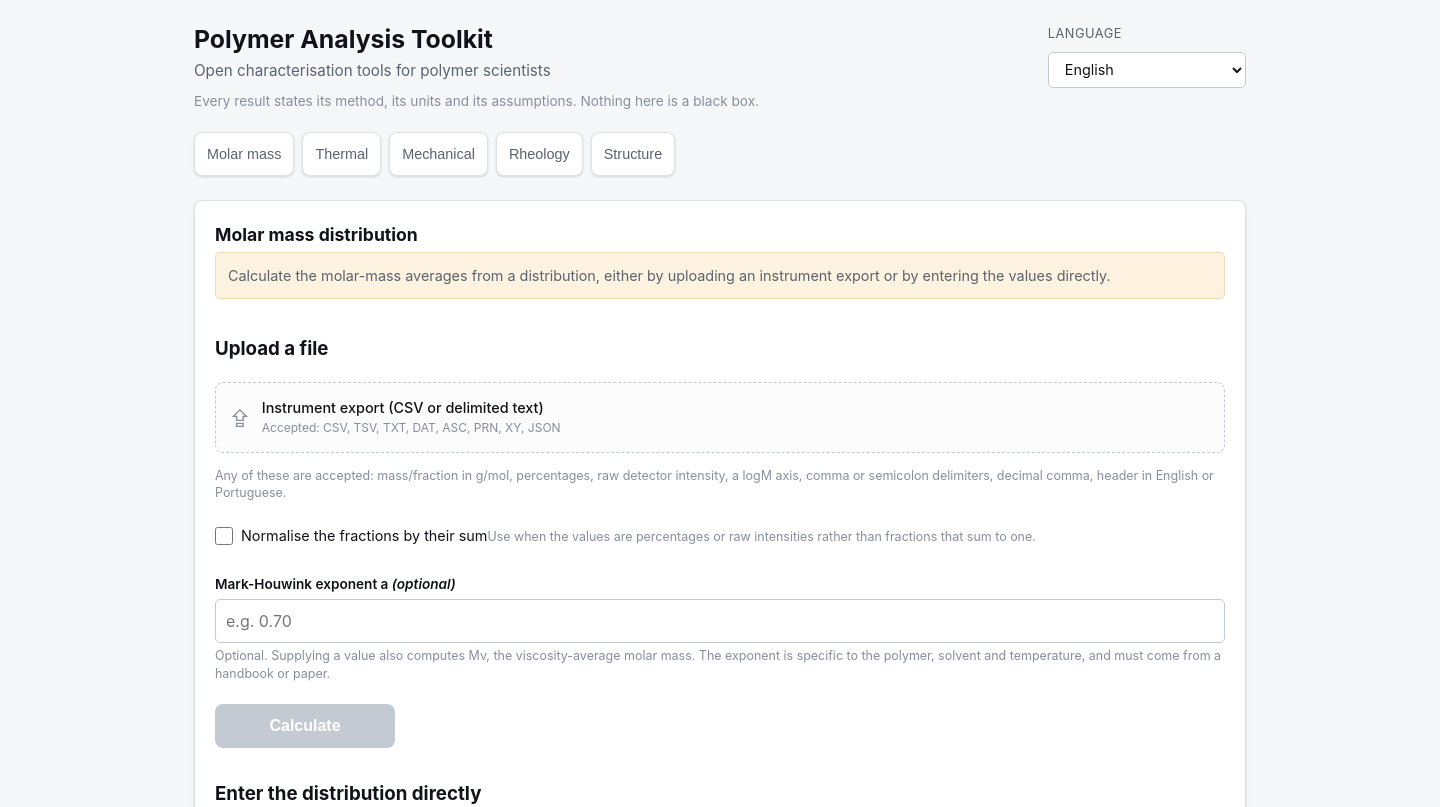
Scenario: thermal mode clarity › each mode states what it returns, so the choice is informed
Click the button "Thermal": click(342, 154) [302,132,381,176]
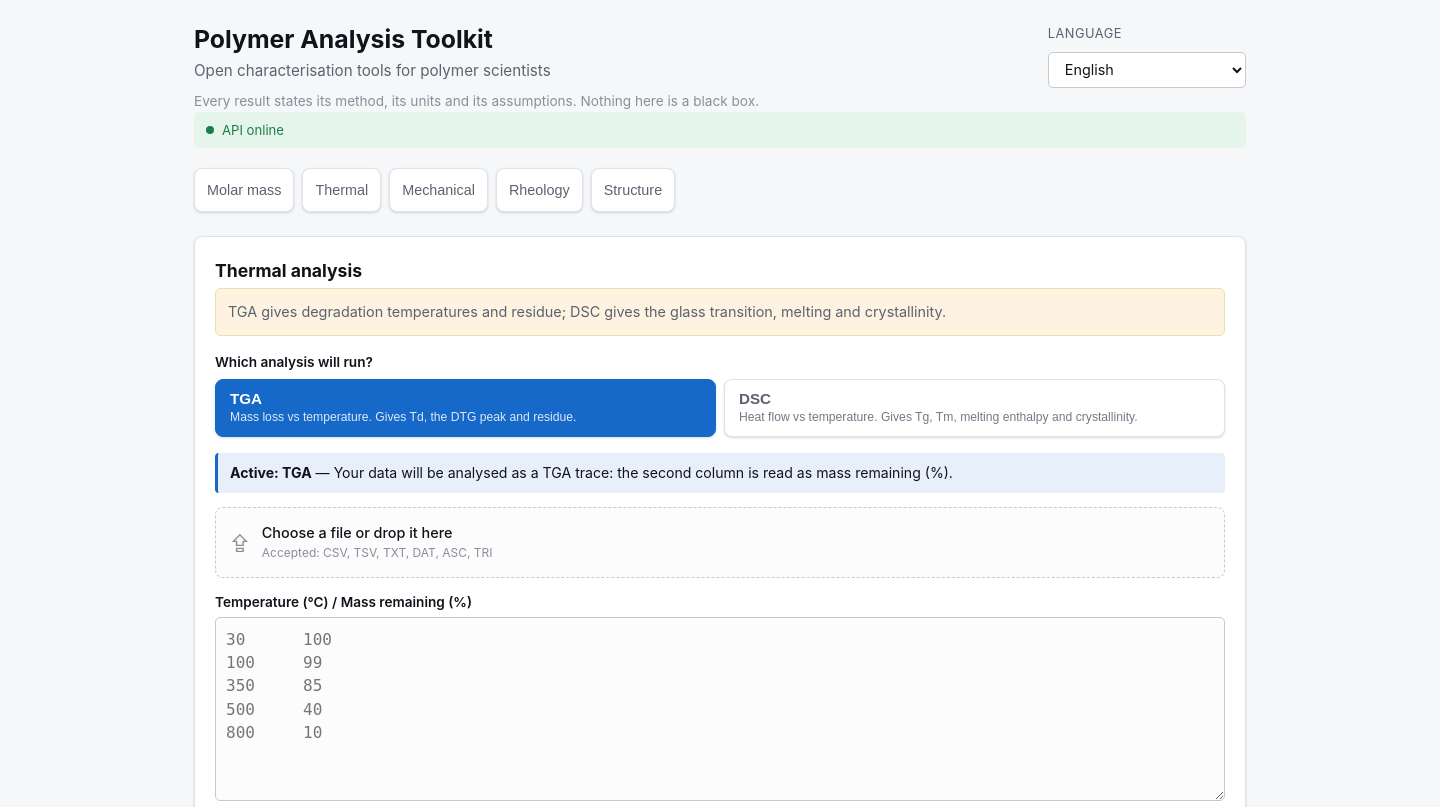
Check: the text "residue" is shown, box [228,303,946,320]
Check: the text "crystallinity" is shown, box [228,303,946,320]
